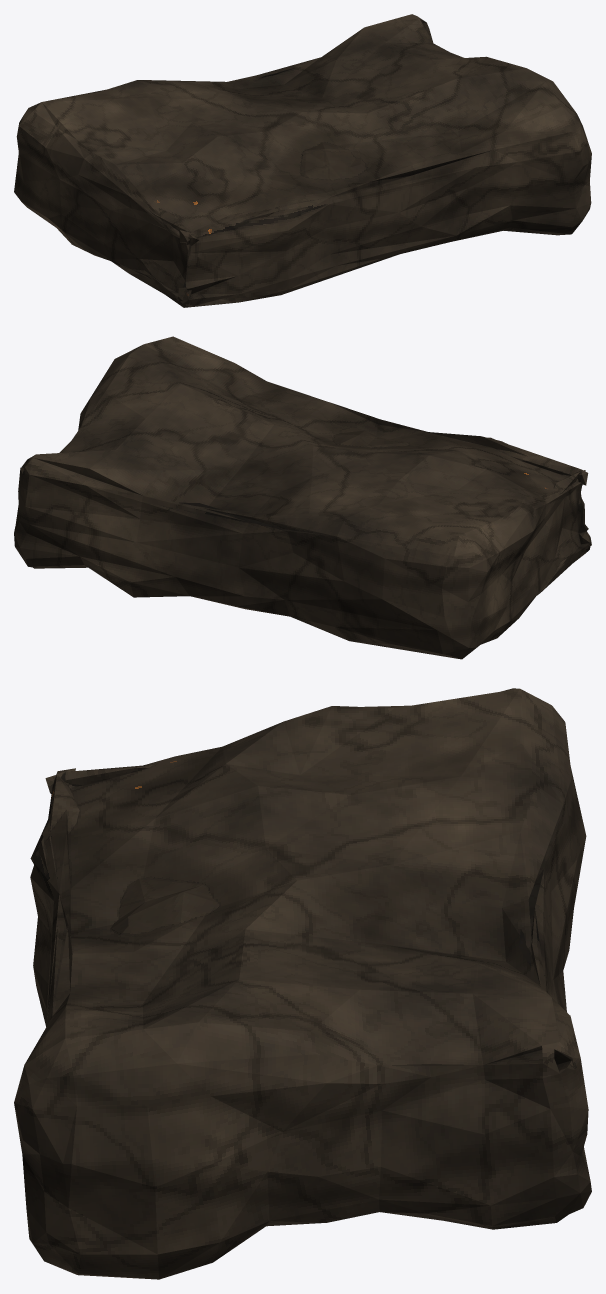
File: mine_ledge_b.glb
3 views of the same model, one above another, from view 1: azimuth 30°, elevation 25°; view 2: azimuth 150°, elevation 25°; view 3: azimuth 270°, elevation 25° (orthographic). The views are drawn at different scales.
Parts seen in each view (by area): view 1: mine_ledge_b; view 2: mine_ledge_b; view 3: mine_ledge_b.
Part boxes in pixels (x1,y1,x2,y2): mine_ledge_b: (14,14,591,307); mine_ledge_b: (14,336,591,659); mine_ledge_b: (14,688,591,1279).
Bounding box in the file's own units: 2.13 × 0.6297 × 1.32.
1 material, 1 textured.
